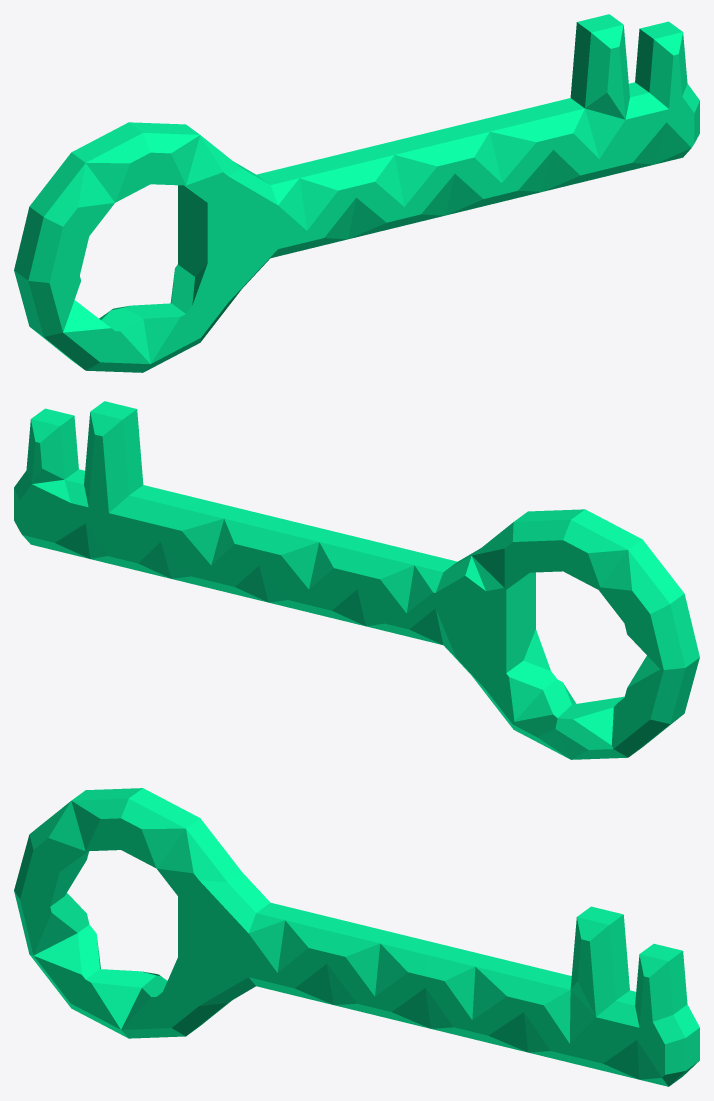
The model's file is key_green.glb.
3 renders of one model, top to bottom at view 1: azimuth 30°, elevation 25°; view 2: azimuth 150°, elevation 25°; view 3: azimuth 330°, elevation 25°, orthographic.
Parts seen in each view (by area): view 1: Circle.026; view 2: Circle.026; view 3: Circle.026.
Part boxes in pixels (<box>): Circle.026: <box>14,14,699,372</box>; Circle.026: <box>14,401,699,759</box>; Circle.026: <box>14,788,699,1086</box>.
Size of the model in its own units: 1.89 by 0.6454 by 0.183.
Materials: 1 (1 with a texture image).
